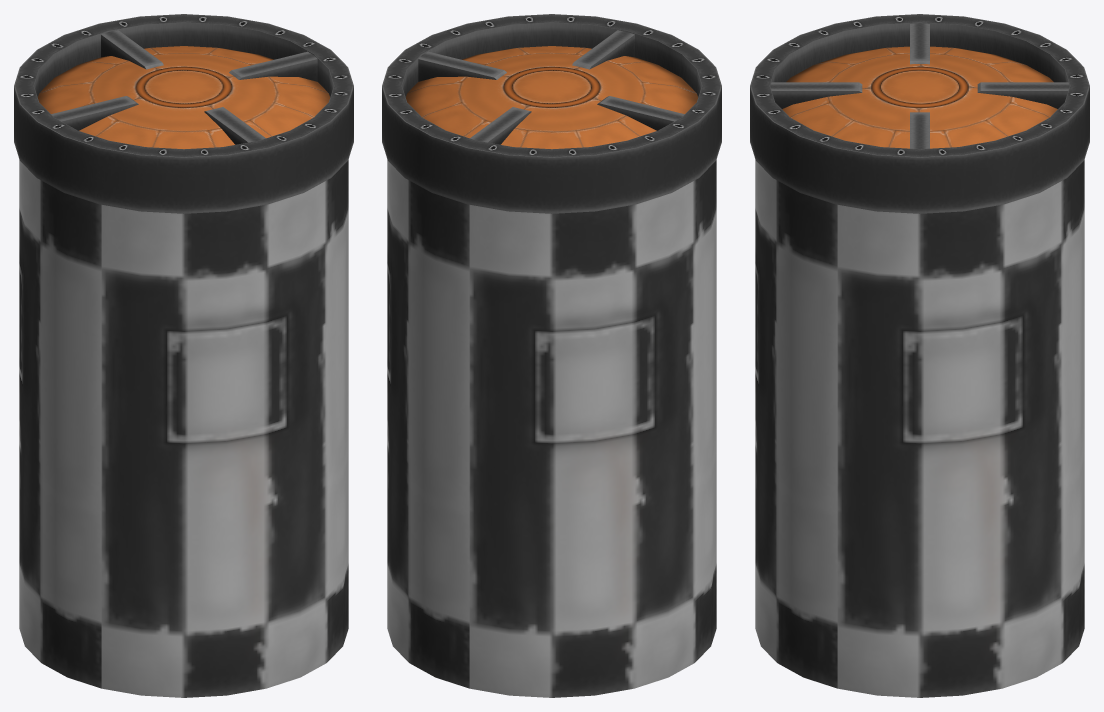
Rendered from bluedog_redstonetank2.dae.
The picture shows the model from 3 angles, left to right: view 1: azimuth 30°, elevation 25°; view 2: azimuth 150°, elevation 25°; view 3: azimuth 270°, elevation 25°; orthographic projection.
Visible parts, largest first — view 1: RedstoneTank1; view 2: RedstoneTank1; view 3: RedstoneTank1.
Boxes of the visible parts, box(x1,y1,x2,y2) form: RedstoneTank1: box(14, 14, 353, 697); RedstoneTank1: box(382, 14, 721, 697); RedstoneTank1: box(750, 14, 1089, 697).
Bounding box in the file's own units: 1.24 × 2.19 × 1.24.
